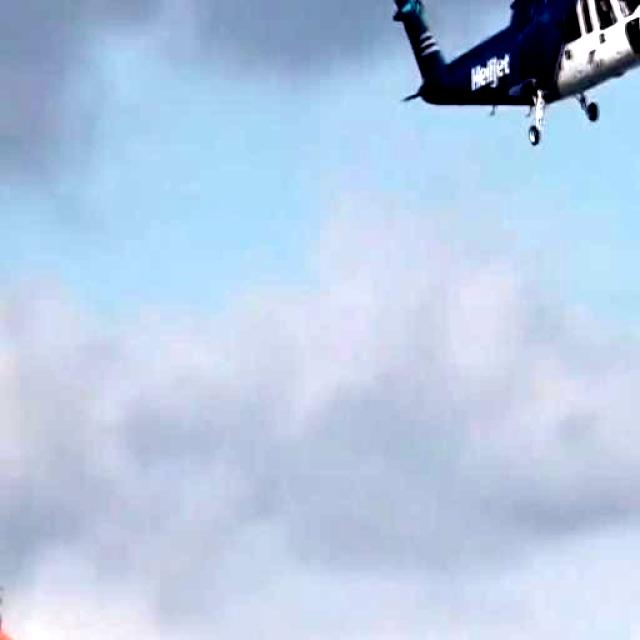drone: (379, 0, 640, 156)
